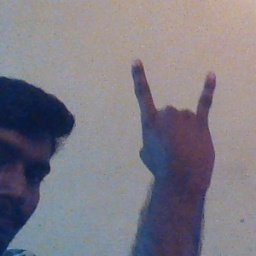V: (125, 54, 225, 185)
